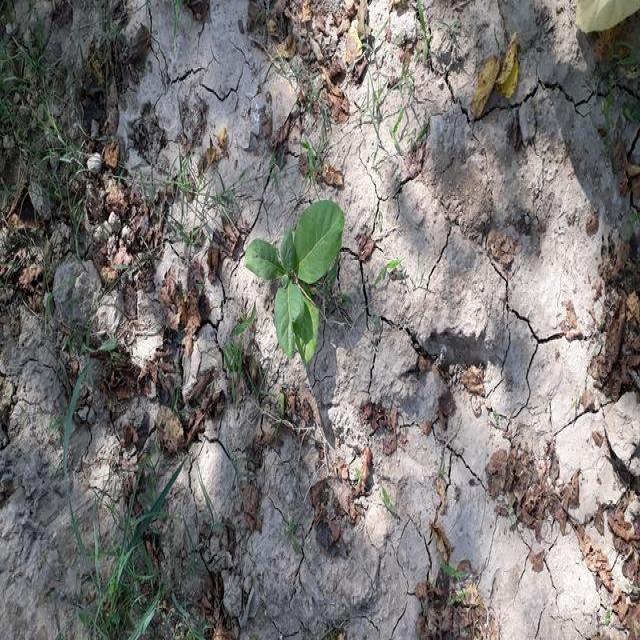crop: (238, 192, 352, 378)
